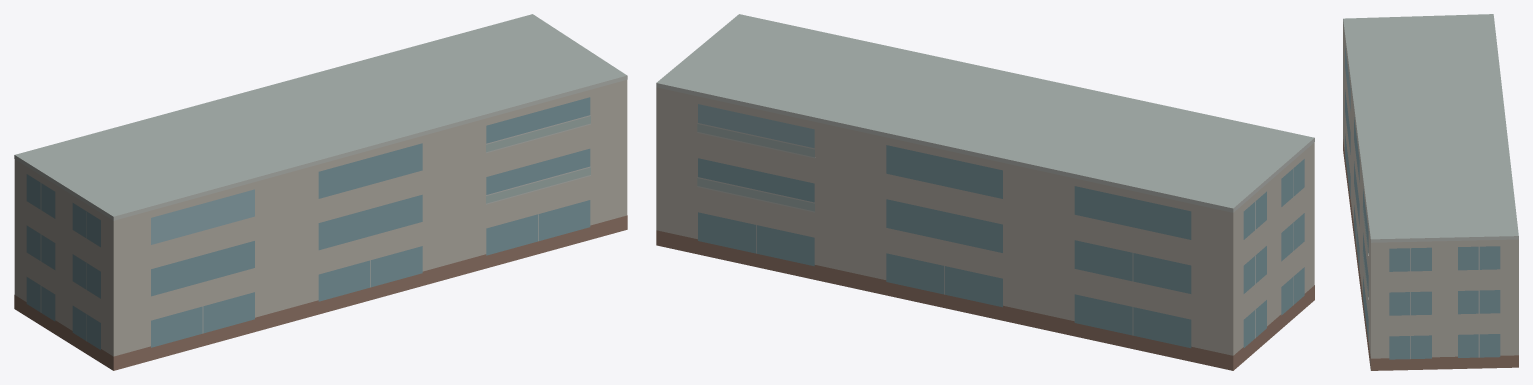
File: survey-upis-32629995.glb
3 views of the same model, side by side, from view 1: azimuth 30°, elevation 25°; view 2: azimuth 150°, elevation 25°; view 3: azimuth 270°, elevation 25° (orthographic). The views are drawn at different scales.
Visible parts, largest first — view 1: survey-upis-32629995.tmp; view 2: survey-upis-32629995.tmp; view 3: survey-upis-32629995.tmp.
Part boxes in pixels (x1=…): survey-upis-32629995.tmp: x1=14, y1=14, x2=627, y2=370; survey-upis-32629995.tmp: x1=656, y1=14, x2=1314, y2=370; survey-upis-32629995.tmp: x1=1343, y1=14, x2=1518, y2=370.
Bounding box in the file's own units: 33.62 × 9.15 × 11.09.
